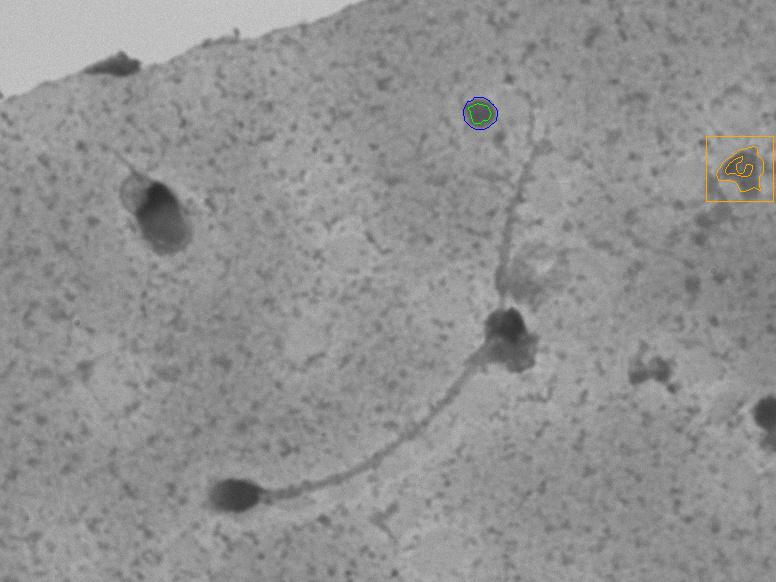Abnormal: (161, 107, 572, 568)
